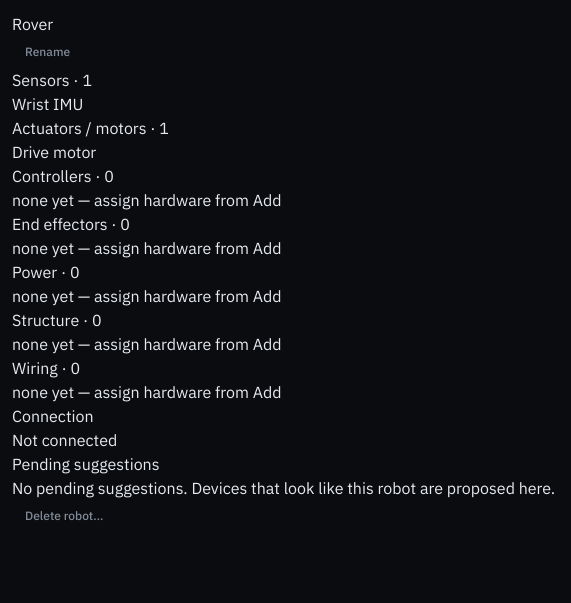
Test: keeps a deletion failure visible without claiming parts were unassigned
The image size is (571, 603).
Click the button "Delete robot…".
click(64, 516)  # box top-left (12, 500), bottom-right (116, 532)
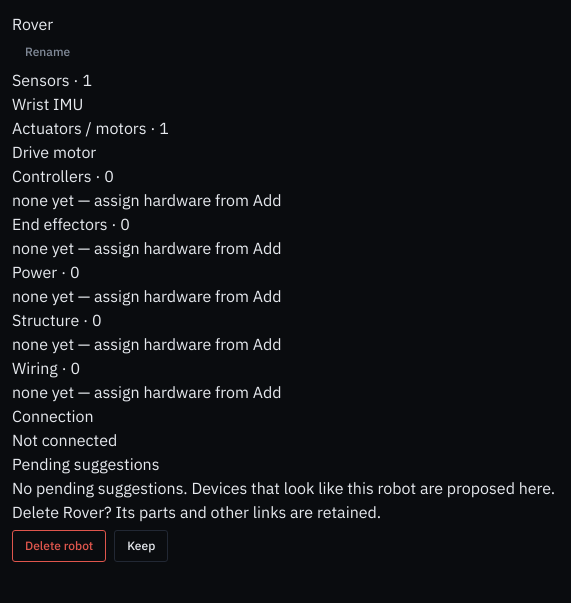
Click the button "Delete robot".
click(59, 546)  # box top-left (12, 530), bottom-right (106, 562)
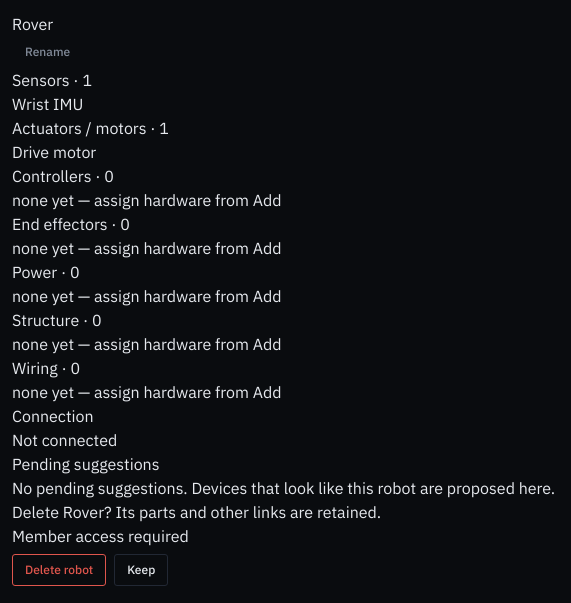
Expected: the button "Delete robot" is shown, top-left (12, 554), bottom-right (106, 586)
Expected: the text "Member access required" is shown, top-left (12, 526), bottom-right (189, 546)
